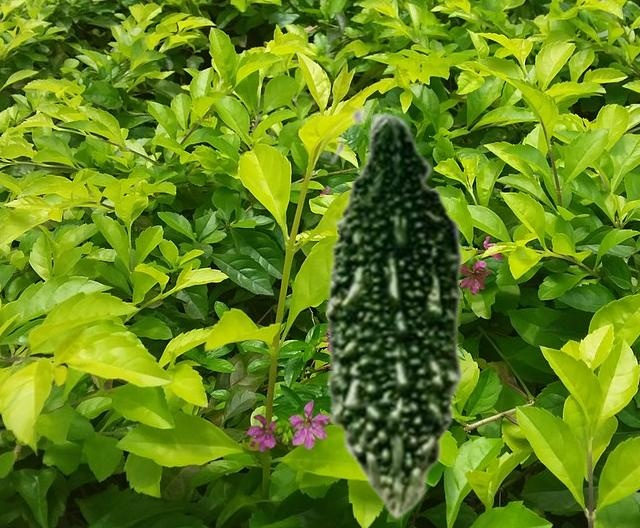ampalaya: (324, 106, 473, 521)
